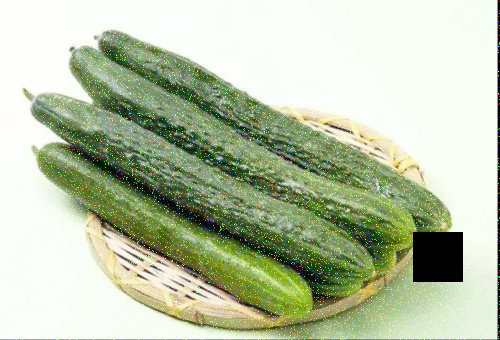cucumber: (98, 24, 446, 229), (69, 48, 424, 235), (28, 89, 367, 275), (30, 140, 308, 309)
